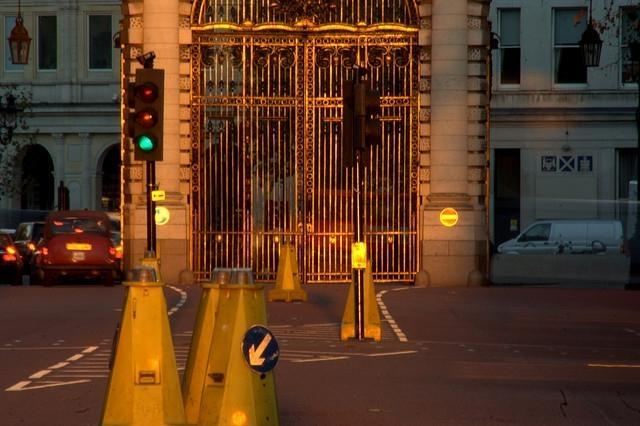car: (31, 212, 121, 284), (12, 221, 49, 275), (0, 230, 26, 286), (112, 212, 120, 232)
truck: (497, 218, 623, 256)
